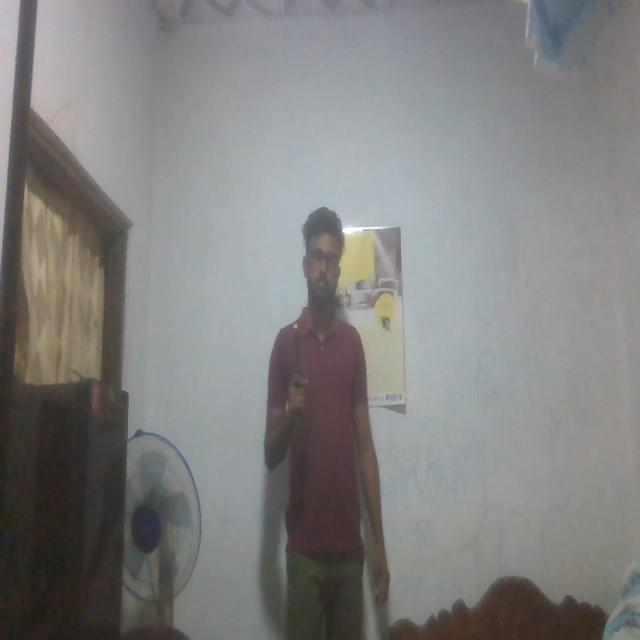Gun_Holder: (283, 323, 311, 405)
Person: (258, 201, 394, 640)
